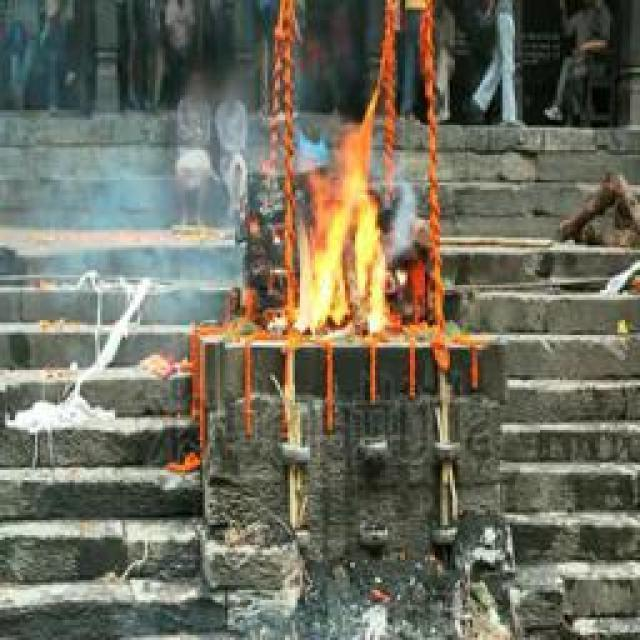Fire: (289, 116, 393, 341)
